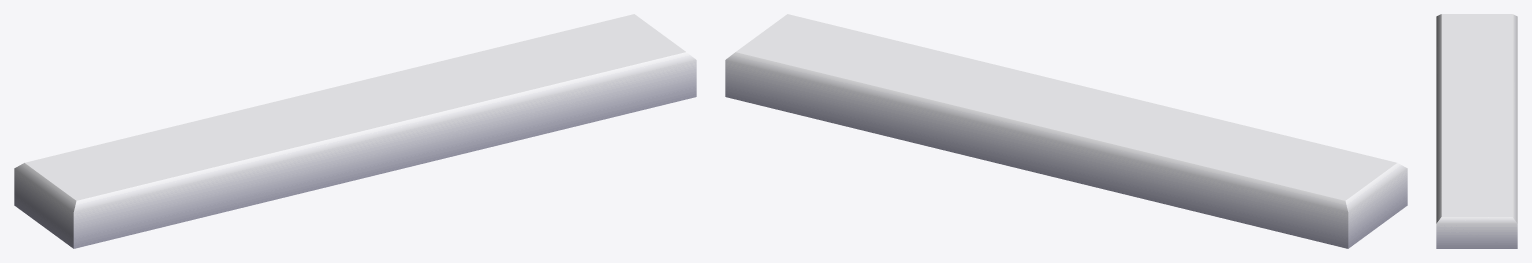
Rendered from brick-kit--none-hq-plate-1x6.glb.
3 renders of one model, left to right at view 1: azimuth 30°, elevation 25°; view 2: azimuth 150°, elevation 25°; view 3: azimuth 270°, elevation 25°, orthographic. The views are drawn at different scales.
Parts seen in each view (by area): view 1: none-hq-plate-1x6; view 2: none-hq-plate-1x6; view 3: none-hq-plate-1x6.
Part boxes in pixels (x1,y1,x2,y2): none-hq-plate-1x6: (14, 14, 696, 248); none-hq-plate-1x6: (725, 14, 1407, 248); none-hq-plate-1x6: (1436, 14, 1517, 248).
Size of the model in its own units: 0.477 by 0.032 by 0.079.
Materials: 1 (1 with a texture image).
